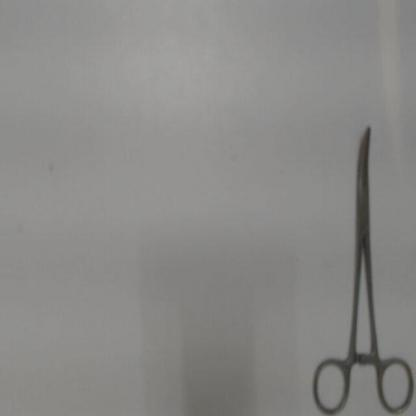Crile Artery Forceps: (308, 115, 415, 415)
